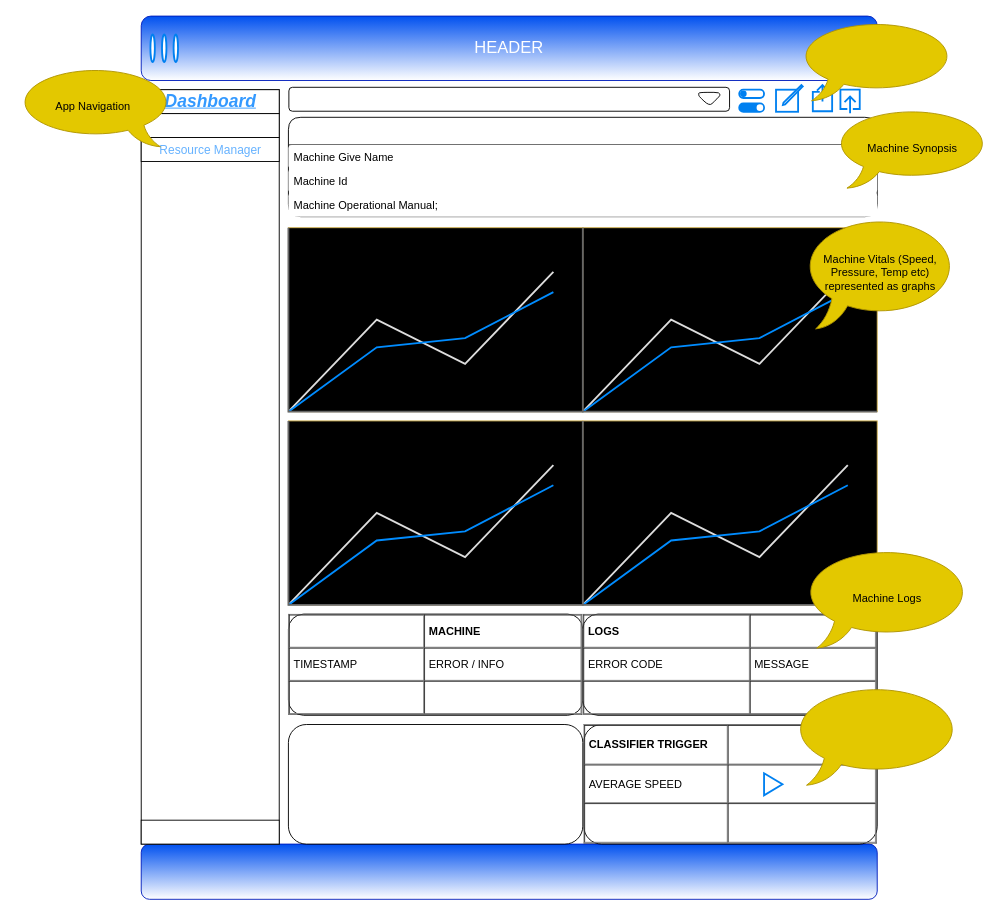
The diagram is 1007 pixels wide and 915 high, and some of its shapes have lost their labels. The shapes that lost their labels are listed below. From the top down, each one's box as (x1, y1, x2, y2) in pixels, then its label:
(798, 20, 956, 101): Information Export Actions
(288, 86, 730, 111): SELECT A MACHINE
(288, 116, 877, 217): MACHINE INFORMATION
(792, 684, 962, 785): Machine Prediction Classifier Trigger
(288, 724, 583, 844): MACHINE TIMESTAMP CYCLE
(140, 843, 877, 899): FOOTER
